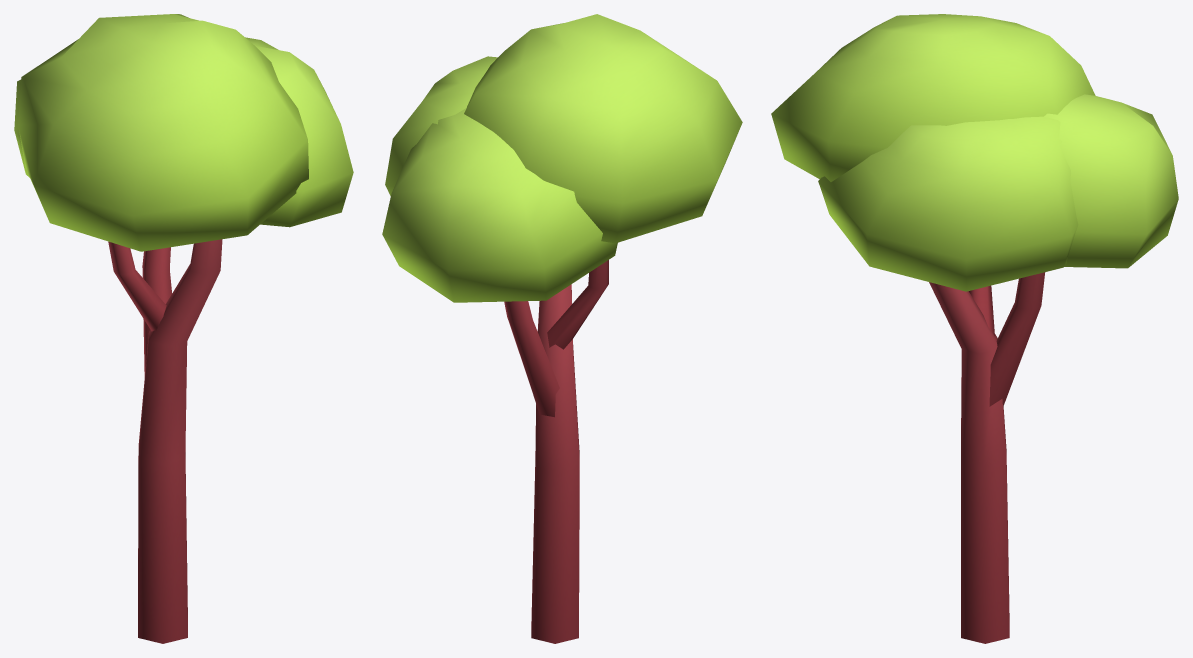
The model's file is Prop_Tree01.fbx.
3 views of the same model, side by side, from view 1: azimuth 30°, elevation 25°; view 2: azimuth 150°, elevation 25°; view 3: azimuth 270°, elevation 25° (orthographic). The views are drawn at different scales.
Parts seen in each view (by area): view 1: Prop_Tree01; view 2: Prop_Tree01; view 3: Prop_Tree01.
Boxes of the visible parts, bbox=[...] form: Prop_Tree01: bbox=[14, 14, 353, 643]; Prop_Tree01: bbox=[382, 14, 742, 643]; Prop_Tree01: bbox=[771, 14, 1178, 643].
Size of the model in its own units: 549 by 1036 by 632.
